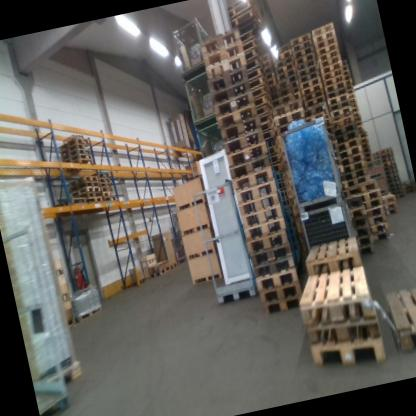pallet: (293, 258, 377, 328), (306, 328, 391, 376), (299, 229, 363, 279), (304, 312, 381, 351), (381, 279, 416, 356), (224, 144, 270, 169), (215, 108, 261, 133), (267, 107, 306, 136), (226, 7, 263, 37), (249, 245, 294, 269), (227, 156, 271, 180), (256, 269, 299, 293), (243, 218, 286, 242), (222, 132, 265, 156), (263, 294, 307, 317), (259, 285, 303, 308), (202, 30, 240, 56), (233, 169, 274, 193), (215, 95, 255, 119), (241, 205, 283, 227), (208, 70, 248, 93), (204, 45, 244, 68), (220, 122, 261, 143), (270, 119, 307, 142), (205, 56, 245, 77), (251, 259, 294, 278), (240, 196, 280, 216), (210, 84, 250, 104), (247, 236, 291, 254), (240, 183, 277, 204), (228, 1, 260, 25), (51, 193, 88, 212), (342, 179, 378, 197), (60, 154, 93, 173), (64, 178, 101, 194), (56, 145, 92, 161), (236, 35, 262, 57), (57, 141, 92, 157), (64, 173, 99, 188), (55, 135, 90, 150), (239, 55, 266, 74), (63, 150, 93, 167), (331, 130, 359, 148), (274, 99, 302, 117), (69, 184, 101, 199), (333, 137, 361, 154), (341, 173, 369, 190), (363, 204, 389, 222), (354, 189, 383, 205), (331, 123, 358, 140), (337, 146, 364, 163), (246, 63, 270, 82), (327, 114, 355, 130), (336, 152, 364, 168), (340, 166, 368, 182), (302, 99, 326, 117), (270, 77, 294, 95), (250, 91, 275, 108), (288, 31, 313, 48), (249, 81, 271, 99), (367, 229, 393, 244), (226, 0, 258, 12), (292, 45, 316, 61), (298, 74, 322, 90), (245, 74, 270, 89), (330, 106, 353, 122), (361, 196, 385, 211), (310, 22, 334, 37), (273, 61, 297, 76), (235, 28, 258, 43), (293, 52, 316, 67), (270, 93, 296, 106), (241, 46, 263, 61), (294, 57, 316, 72), (270, 43, 292, 58), (338, 160, 365, 172), (314, 37, 337, 51), (296, 69, 319, 83), (302, 110, 325, 124), (346, 203, 366, 219), (272, 49, 293, 64), (318, 62, 344, 74), (316, 50, 340, 63), (312, 31, 336, 44), (296, 65, 320, 78), (148, 265, 170, 279), (324, 81, 346, 95), (302, 88, 324, 102), (350, 215, 370, 230), (321, 68, 344, 81), (370, 221, 391, 235), (273, 55, 294, 69), (343, 192, 361, 208), (317, 56, 341, 68), (323, 74, 345, 87), (316, 43, 338, 56), (276, 69, 298, 82), (81, 194, 104, 206), (300, 83, 323, 95), (329, 99, 350, 112), (272, 84, 293, 97), (290, 40, 314, 51), (367, 214, 388, 226), (305, 96, 325, 108), (326, 88, 347, 99), (352, 225, 371, 237), (256, 102, 273, 115), (360, 245, 375, 259), (327, 93, 348, 103), (82, 189, 102, 199), (102, 194, 120, 205), (357, 234, 373, 246), (382, 192, 395, 205), (275, 144, 286, 159), (99, 183, 115, 193), (282, 179, 294, 192), (269, 153, 281, 166), (383, 200, 397, 211), (258, 119, 272, 130), (260, 129, 274, 140), (94, 168, 109, 178), (97, 179, 111, 189), (256, 112, 270, 122), (277, 153, 287, 166), (268, 143, 279, 154), (274, 136, 284, 148), (279, 162, 289, 174), (387, 207, 398, 217), (101, 189, 114, 197), (285, 189, 295, 199), (259, 53, 269, 63), (98, 175, 110, 183), (294, 214, 301, 227), (288, 196, 297, 205), (281, 170, 289, 180), (274, 164, 282, 174), (291, 80, 299, 90), (296, 225, 303, 235), (265, 80, 275, 87), (291, 86, 299, 94), (266, 66, 274, 74), (291, 206, 298, 214), (291, 75, 298, 83), (263, 60, 271, 67), (268, 73, 274, 80)
stillage: (1, 209, 76, 416), (187, 176, 261, 308), (275, 110, 351, 211), (296, 190, 363, 269), (169, 10, 214, 82), (178, 69, 220, 127), (190, 117, 231, 165)
